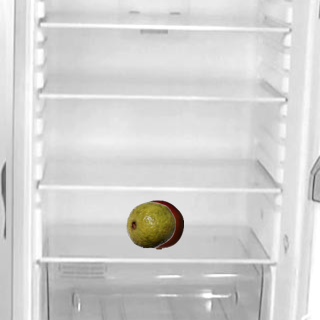Apple Braeburn: (133, 199, 183, 249)
Guava: (125, 199, 175, 249)
